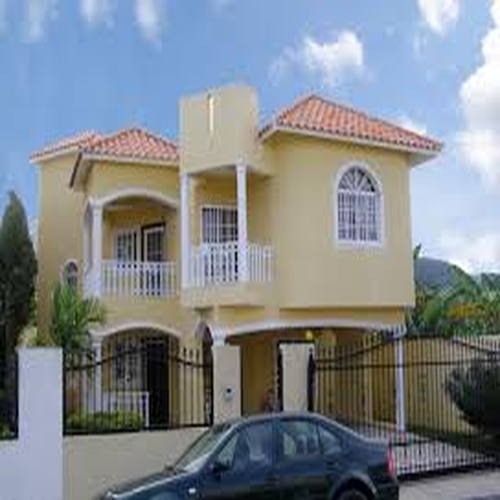Building House: (29, 85, 425, 453)
